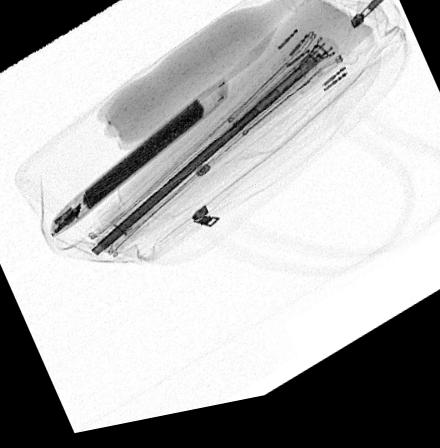Powerbank: (47, 88, 226, 239)
